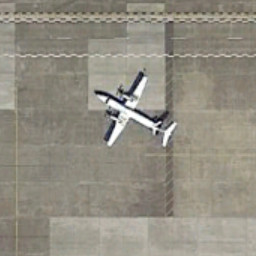Airplane: (71, 61, 190, 155)
